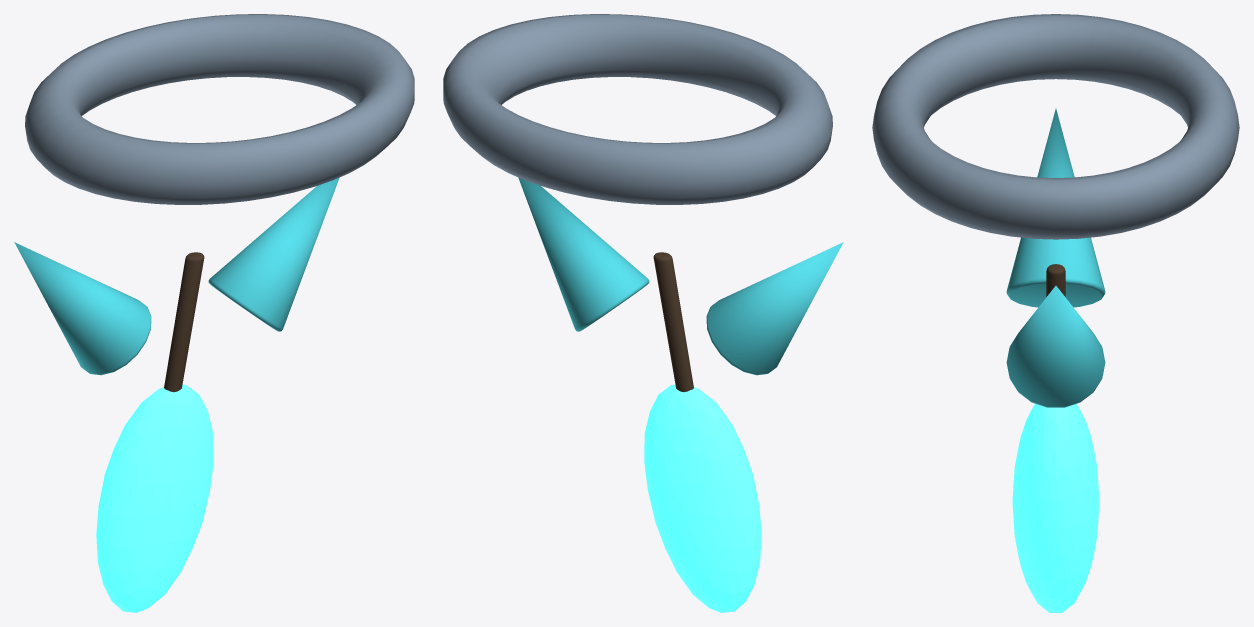
Rendered from earring_v4.glb.
The picture shows the model from 3 angles, left to right: view 1: azimuth 30°, elevation 25°; view 2: azimuth 150°, elevation 25°; view 3: azimuth 270°, elevation 25°; orthographic projection. The views are drawn at different scales.
Visible parts, largest first — view 1: EARRING_HOOP_PRIMARY, EARRING_GEM_EMISSIVE, SWEPT_FIN_ACCENT, SWEPT_FIN_ACCENT.001, EARRING_CHAIN_SECONDARY; view 2: EARRING_HOOP_PRIMARY, EARRING_GEM_EMISSIVE, SWEPT_FIN_ACCENT, SWEPT_FIN_ACCENT.001, EARRING_CHAIN_SECONDARY; view 3: EARRING_HOOP_PRIMARY, EARRING_GEM_EMISSIVE, SWEPT_FIN_ACCENT.001, SWEPT_FIN_ACCENT, EARRING_CHAIN_SECONDARY.
Boxes of the visible parts, x1,y1,x2,y2 form: EARRING_HOOP_PRIMARY: (25,14,414,204); EARRING_GEM_EMISSIVE: (96,384,213,612); SWEPT_FIN_ACCENT: (14,242,151,375); SWEPT_FIN_ACCENT.001: (208,177,339,331); EARRING_CHAIN_SECONDARY: (164,252,204,392); EARRING_HOOP_PRIMARY: (443,14,832,204); EARRING_GEM_EMISSIVE: (644,384,761,612); SWEPT_FIN_ACCENT: (706,242,843,375); SWEPT_FIN_ACCENT.001: (518,177,649,331); EARRING_CHAIN_SECONDARY: (653,252,693,391); EARRING_HOOP_PRIMARY: (872,14,1239,239); EARRING_GEM_EMISSIVE: (1012,403,1099,612); SWEPT_FIN_ACCENT.001: (1006,286,1105,407); SWEPT_FIN_ACCENT: (1006,108,1105,307); EARRING_CHAIN_SECONDARY: (1046,264,1065,296).
Size of the model in its own units: 1.53 by 1.95 by 1.16.
